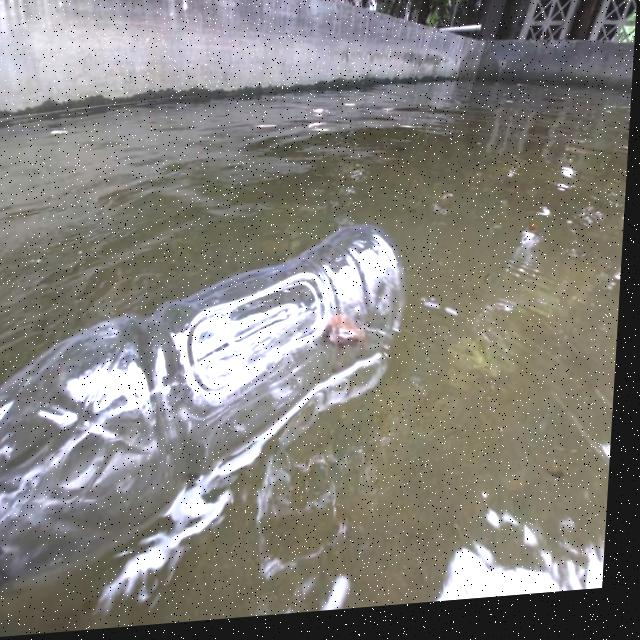waterbottle: (0, 204, 410, 637)
